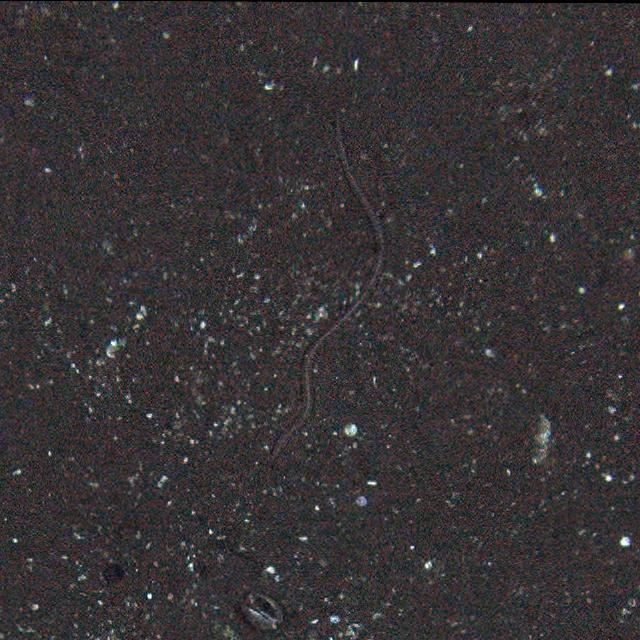eel: (267, 115, 387, 463)
